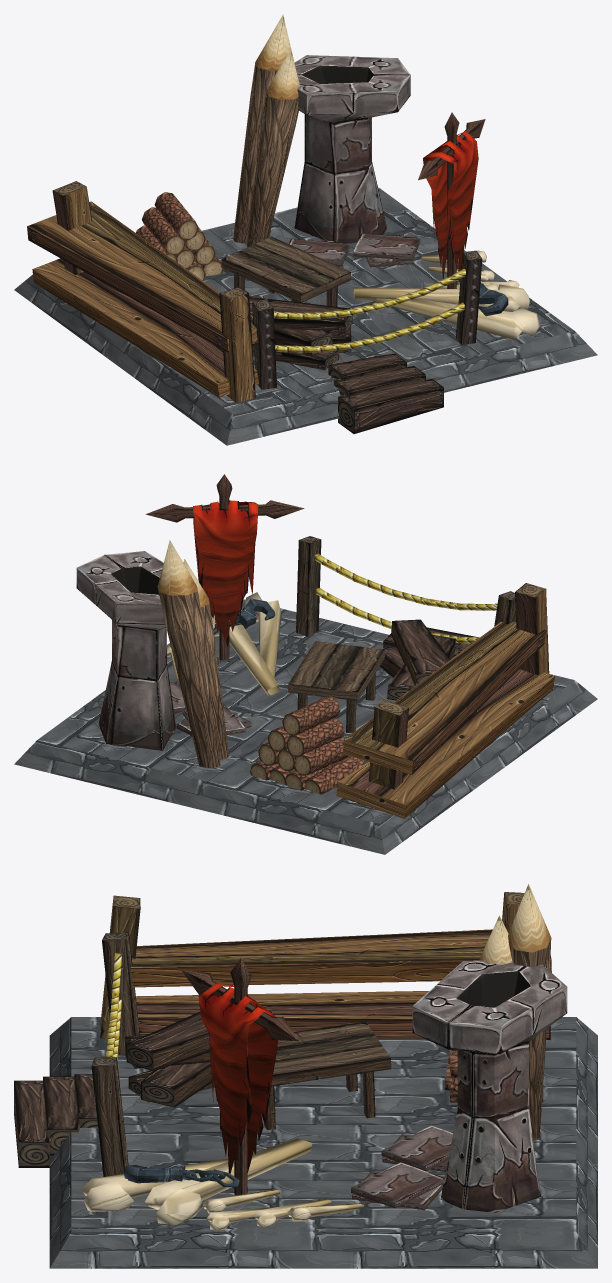
Rendered from Orc_Construction_Bonecarver.FBX.
3 renders of one model, top to bottom at view 1: azimuth 30°, elevation 25°; view 2: azimuth 150°, elevation 25°; view 3: azimuth 270°, elevation 25°, orthographic. The views are drawn at different scales.
Visible parts, largest first — view 1: bedrock001, wood_table021, Chimney001, stairs008, wood_pilar030, table_wood001, femur037, Plane028, step027, trunks002, wood_pilar031, large_wood031 (+7 smaller); view 2: bedrock001, wood_table021, Chimney001, wood_pilar031, trunks002, Plane028, table_wood001, step027, femur037, large_wood031, wood_pilar030, cross015 (+4 smaller); view 3: bedrock001, wood_table021, Chimney001, femur037, Plane028, table_wood001, step027, stairs008, wood_pilar031, large_wood031, cross015, Box203 (+7 smaller).
Part boxes in pixels (left/top/right/bottom): bedrock001: left=14, top=187, right=597, bottom=445; wood_table021: left=27, top=181, right=258, bottom=402; Chimney001: left=294, top=55, right=410, bottom=243; stairs008: left=328, top=353, right=443, bottom=433; wood_pilar030: left=246, top=50, right=300, bottom=247; table_wood001: left=221, top=236, right=350, bottom=306; femur037: left=353, top=250, right=539, bottom=339; Plane028: left=423, top=131, right=478, bottom=283; step027: left=249, top=295, right=352, bottom=370; trunks002: left=136, top=192, right=223, bottom=280; wood_pilar031: left=233, top=14, right=294, bottom=243; large_wood031: left=456, top=250, right=482, bottom=344; bedrock001: left=14, top=599, right=597, bottom=854; wood_table021: left=336, top=583, right=554, bottom=818; Chimney001: left=76, top=551, right=175, bottom=750; wood_pilar031: left=157, top=540, right=220, bottom=767; trunks002: left=250, top=696, right=363, bottom=794; Plane028: left=193, top=500, right=258, bottom=646; table_wood001: left=288, top=641, right=384, bottom=733; step027: left=379, top=619, right=455, bottom=700; femur037: left=167, top=592, right=281, bottom=695; large_wood031: left=296, top=536, right=321, bottom=636; wood_pilar030: left=183, top=559, right=228, bottom=759; cross015: left=145, top=474, right=304, bottom=660; bedrock001: left=49, top=1017, right=597, bottom=1268; wood_table021: left=100, top=892, right=551, bottom=1039; Chimney001: left=412, top=960, right=567, bottom=1212; femur037: left=81, top=1138, right=363, bottom=1230; Plane028: left=198, top=983, right=278, bottom=1173; table_wood001: left=264, top=1021, right=391, bottom=1129; step027: left=124, top=1011, right=271, bottom=1107; stairs008: left=14, top=1074, right=97, bottom=1167; wood_pilar031: left=508, top=884, right=551, bottom=1140; large_wood031: left=91, top=1057, right=128, bottom=1176; cross015: left=181, top=958, right=298, bottom=1195; Box203: left=351, top=1162, right=444, bottom=1208.
Size of the model in its own units: 4501 by 2752 by 4669.
